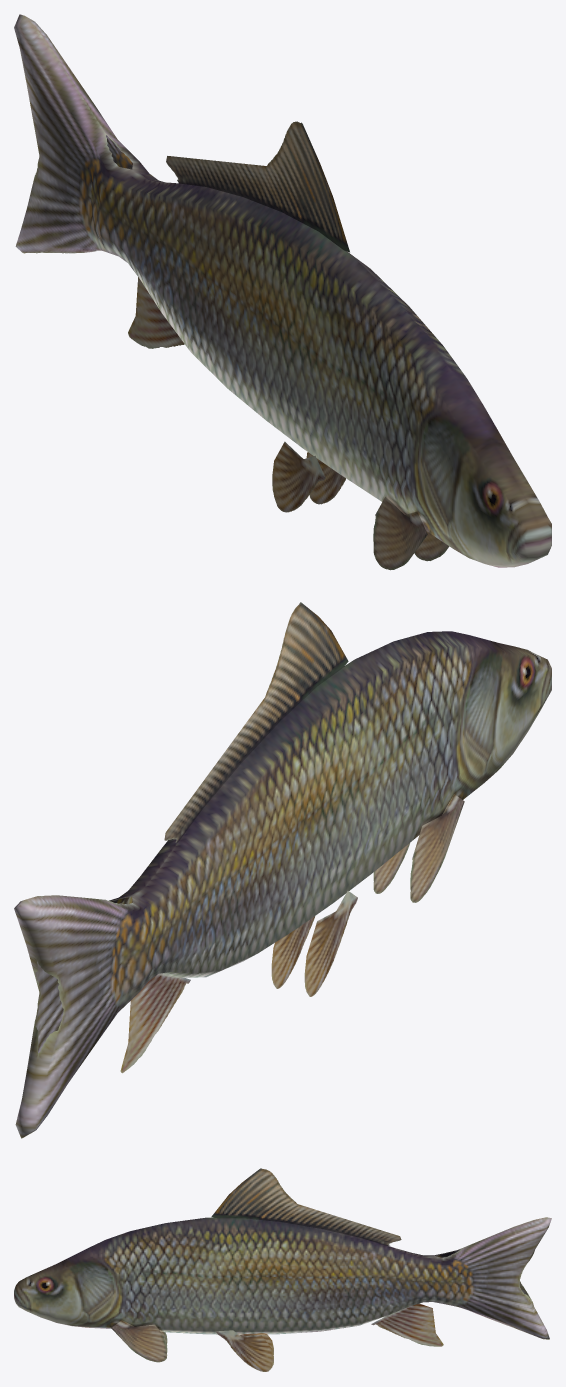
The model's file is fish.obj.
3 views of the same model, one above another, from view 1: azimuth 30°, elevation 25°; view 2: azimuth 150°, elevation 25°; view 3: azimuth 270°, elevation 25° (orthographic). The views are drawn at different scales.
Visible parts, largest first — view 1: fish; view 2: fish; view 3: fish.
Part boxes in pixels (box(x1,y1,x2,y2)): fish: box(14, 14, 551, 570); fish: box(14, 602, 551, 1138); fish: box(14, 1168, 551, 1371).
Bounding box in the file's own units: 0.2434 × 2.09 × 5.06.
1 material, 1 textured.
